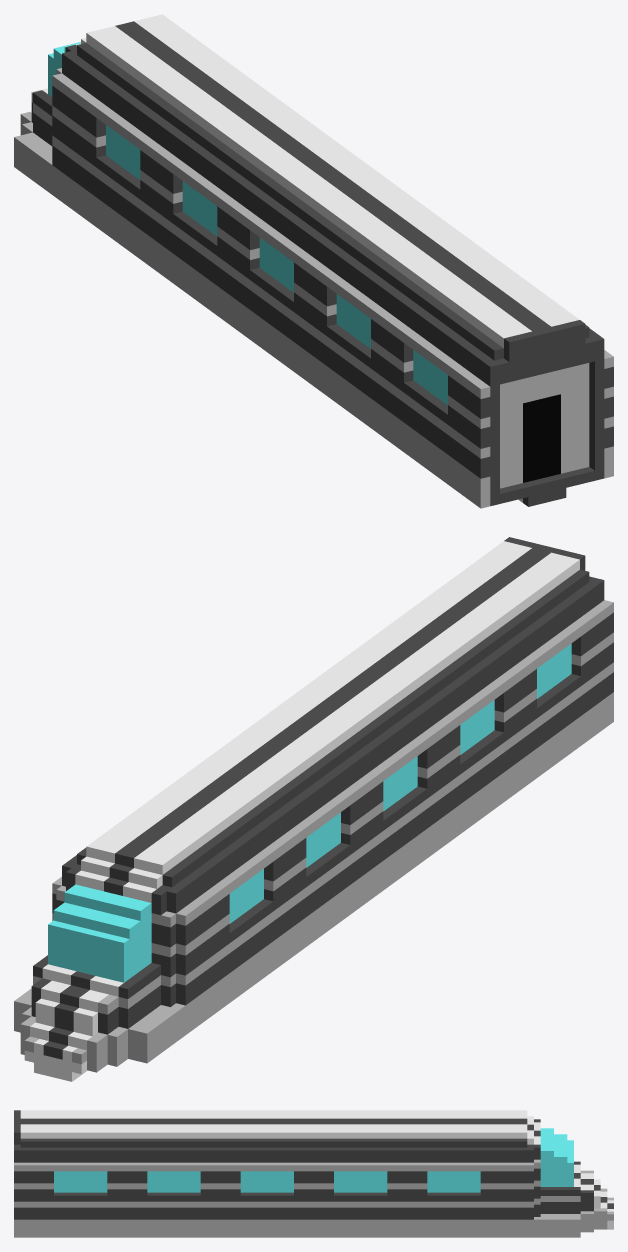
The model's file is Train.obj.
3 renders of one model, top to bottom at view 1: azimuth 30°, elevation 25°; view 2: azimuth 150°, elevation 25°; view 3: azimuth 270°, elevation 25°, orthographic. The views are drawn at different scales.
Bounding box in the file's own units: 1.4 × 1.7 × 9.
1 material, 1 textured.
